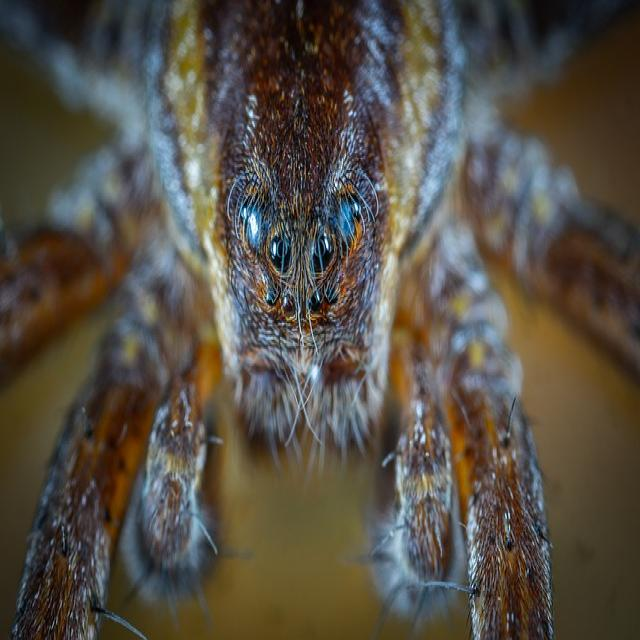spyder: (0, 2, 640, 637)
